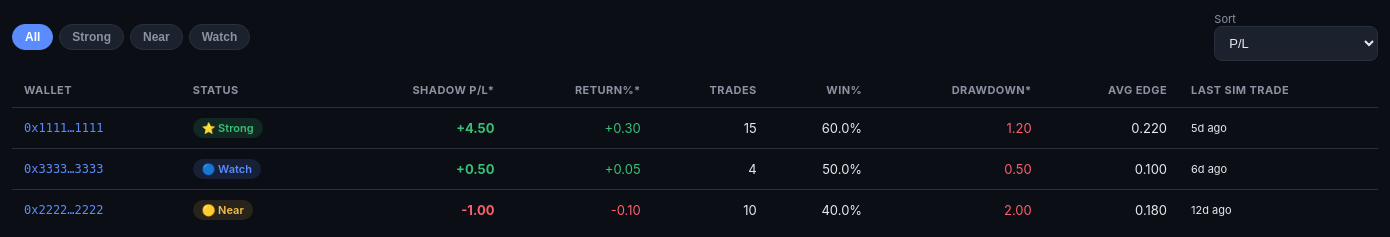
Test: ShadowPortfolioTable › filters by status
Click the button "Strong".
click(92, 36)  # box [59,24,124,50]
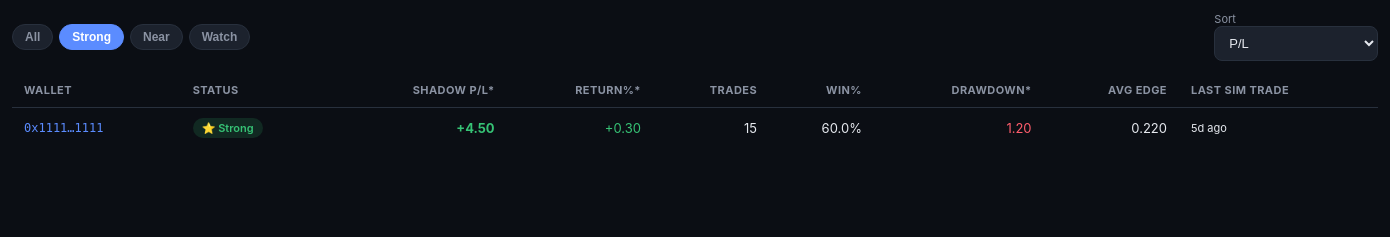
Expected: the text "⭐ Strong" is shown, [193,118,263,138]
Result: the number of rows with test id "shadow-row" is 1 at [12,108,1378,148]
